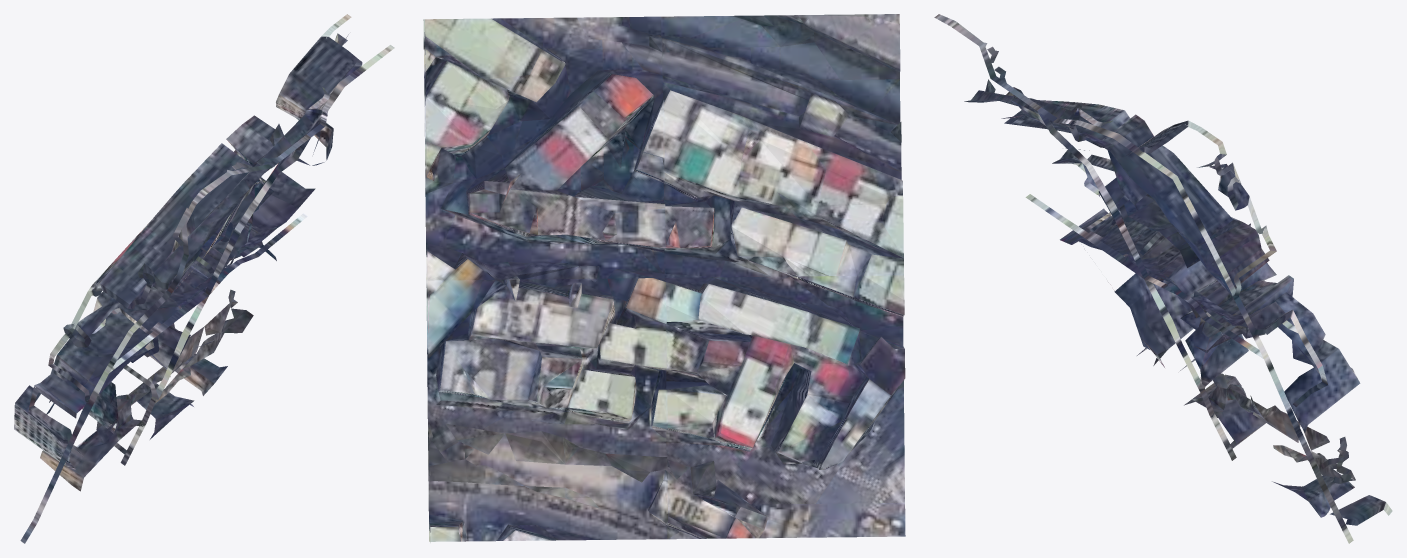
3 renders of one model, left to right at view 1: azimuth 30°, elevation 25°; view 2: azimuth 150°, elevation 25°; view 3: azimuth 270°, elevation 25°, orthographic. The views are drawn at different scales.
Bounding box in the file's own units: 152 × 147 × 140.
1 material, 1 textured.
